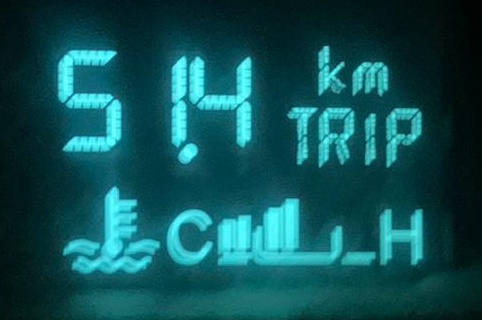-: (179, 142, 201, 163)
1: (166, 50, 186, 146)
4: (188, 49, 265, 148)
5: (51, 35, 129, 162)
X: (376, 199, 425, 268), (166, 204, 213, 269), (384, 103, 425, 170), (319, 104, 359, 168), (286, 103, 316, 167), (315, 42, 347, 97), (352, 59, 388, 95), (362, 108, 380, 166)
